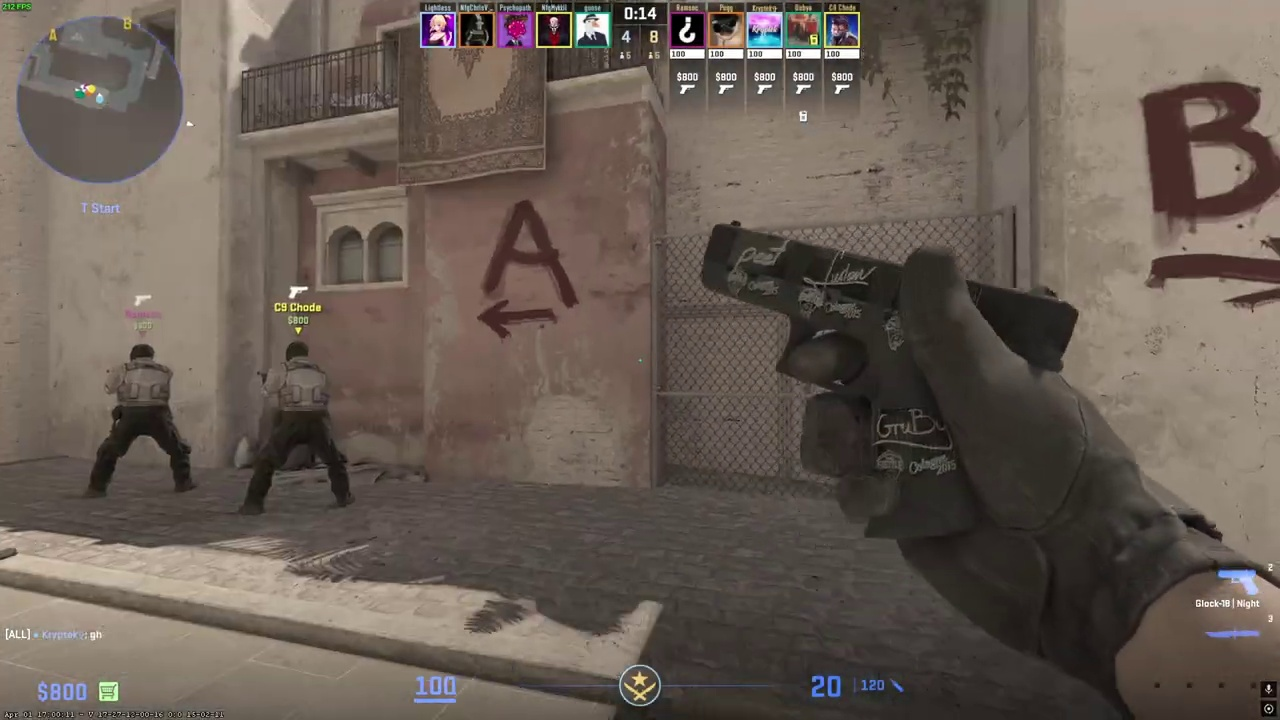Terrorist: (244, 341, 354, 515), (86, 343, 198, 499)
